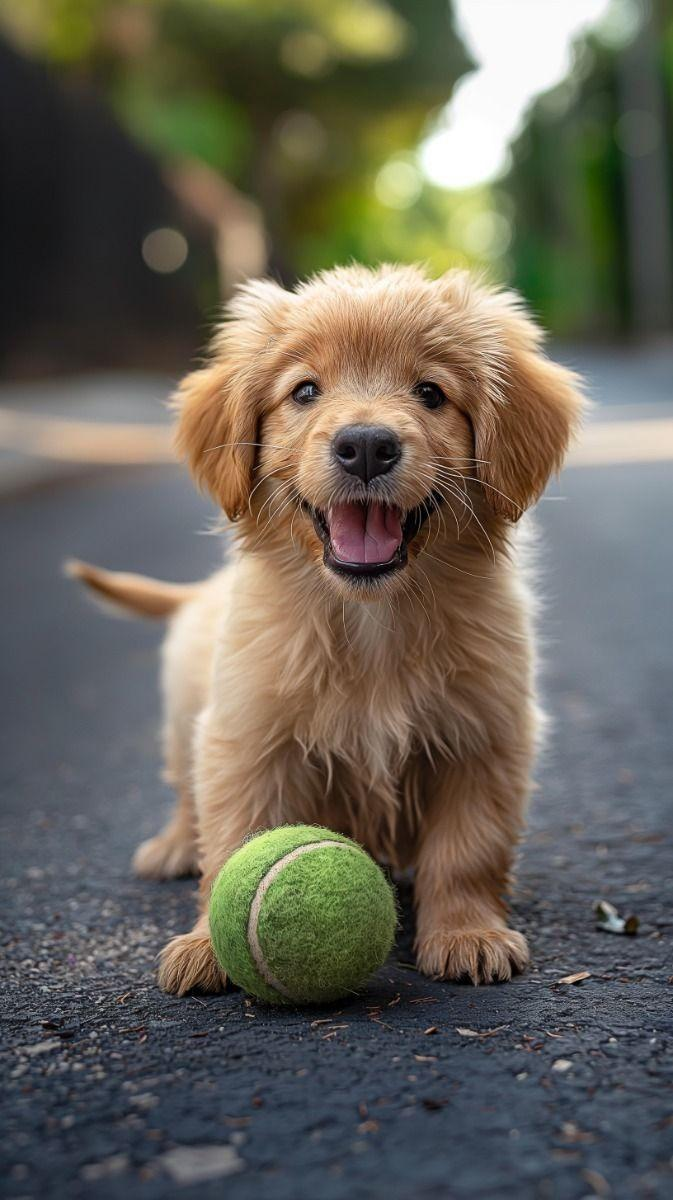non-dog: (207, 822, 402, 1010)
puppy-dog: (62, 258, 594, 1002)
